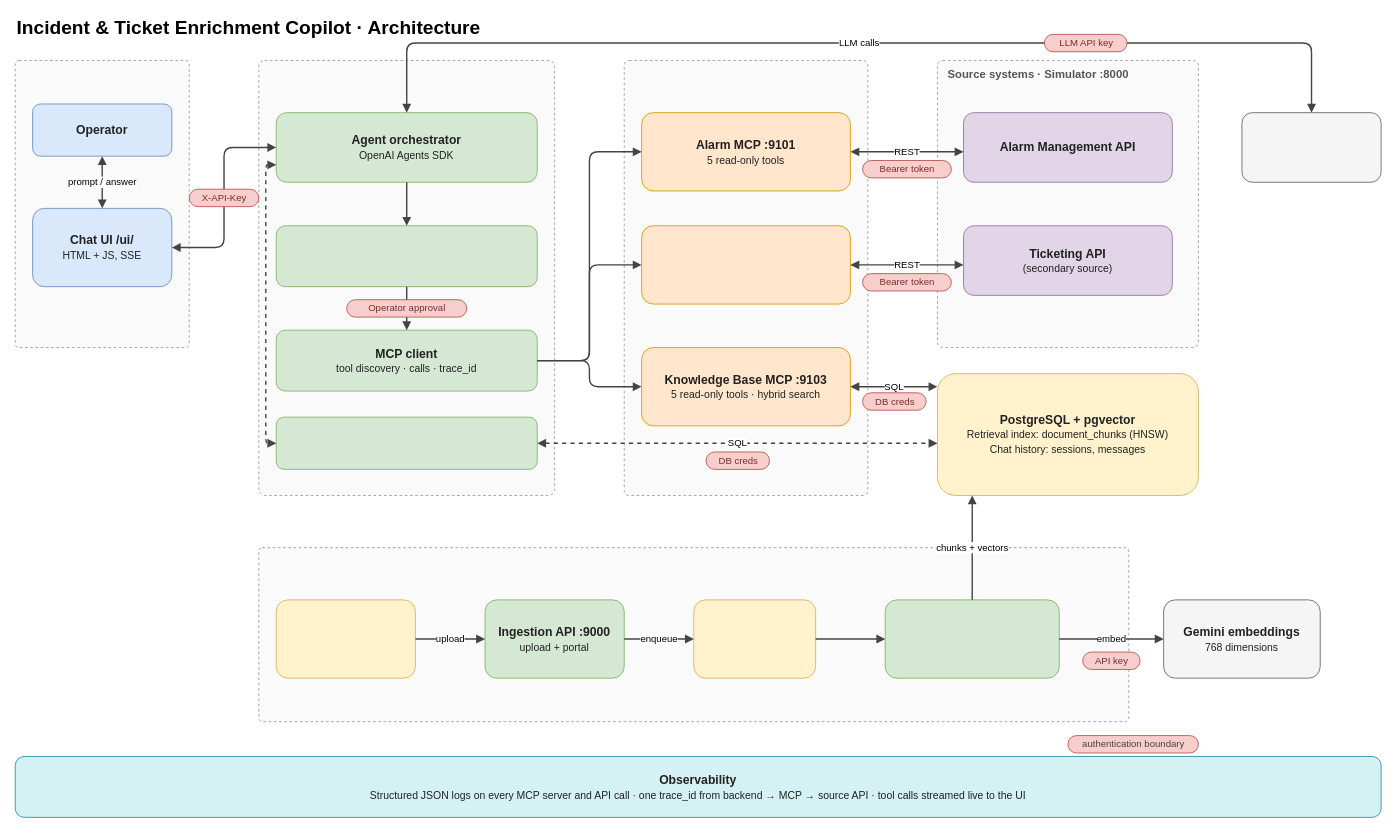
Image size: 1396x833. Some labels were removed from this diagram. The shapes that lost their labels are listed below. From the top down, each one's box as (x1, y1, x2, y2) in pixels, then its label:
(1241, 112, 1381, 182): LLM provider OpenAI API
(14, 60, 189, 348): Client
(275, 225, 537, 287): Approval gate create / update ticket need operator OK
(641, 225, 850, 304): Ticketing MCP :9102 2 read + 2 write tools
(258, 60, 555, 495): Copilot backend · FastAPI :9200
(623, 60, 868, 495): MCP servers · streamable HTTP
(275, 416, 537, 469): Session history chat turns
(275, 599, 415, 678): Document store PDF / DOCX / MD test_data/rag_data
(258, 547, 1129, 722): Ingestion pipeline (runs separately from chat)
(693, 599, 816, 678): Redis job queue
(884, 599, 1059, 678): Worker parse → chunk → embed
